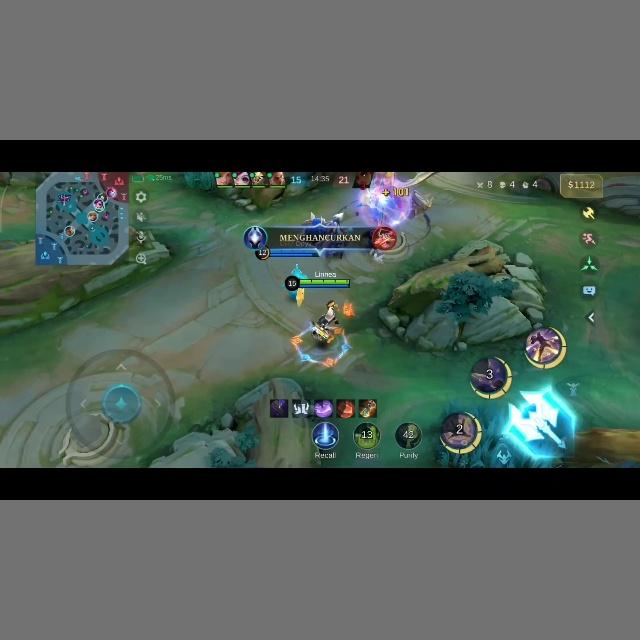hp_self: (253, 250, 316, 261), (296, 278, 350, 287)
minion_ally: (302, 210, 343, 226)
